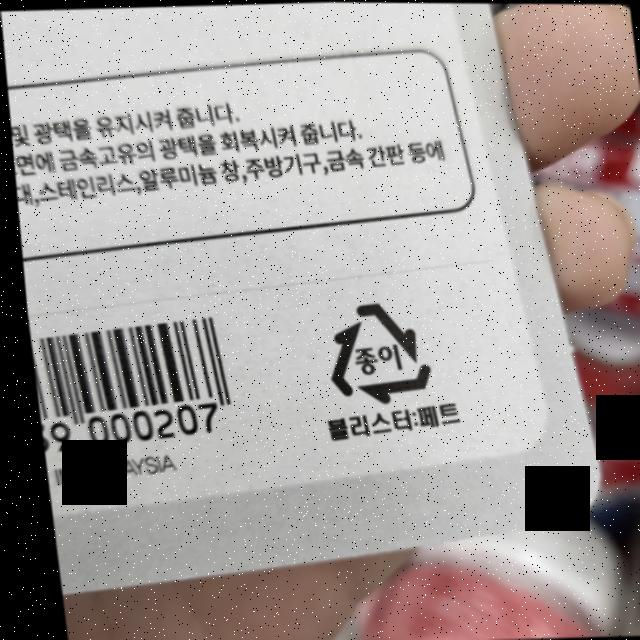Paper: (311, 294, 429, 405)
